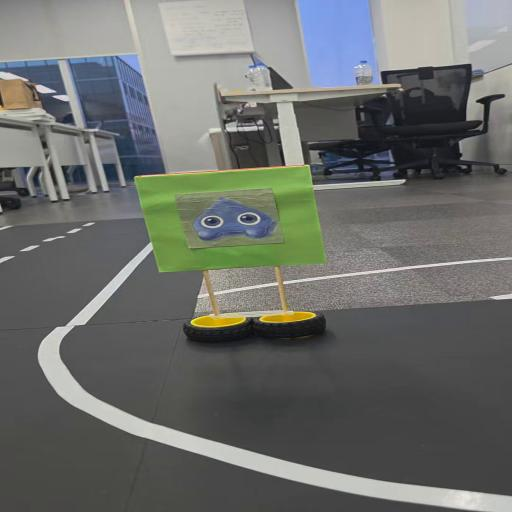Sign_B: (126, 162, 334, 348)
